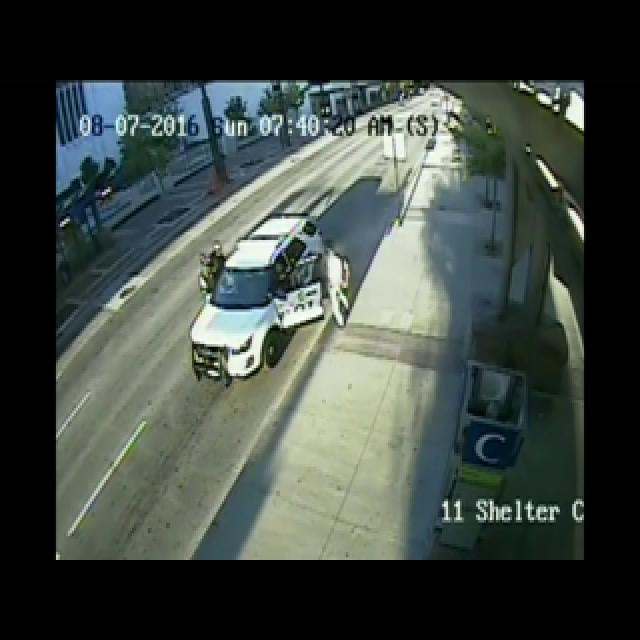arrest: (170, 0, 408, 461)
